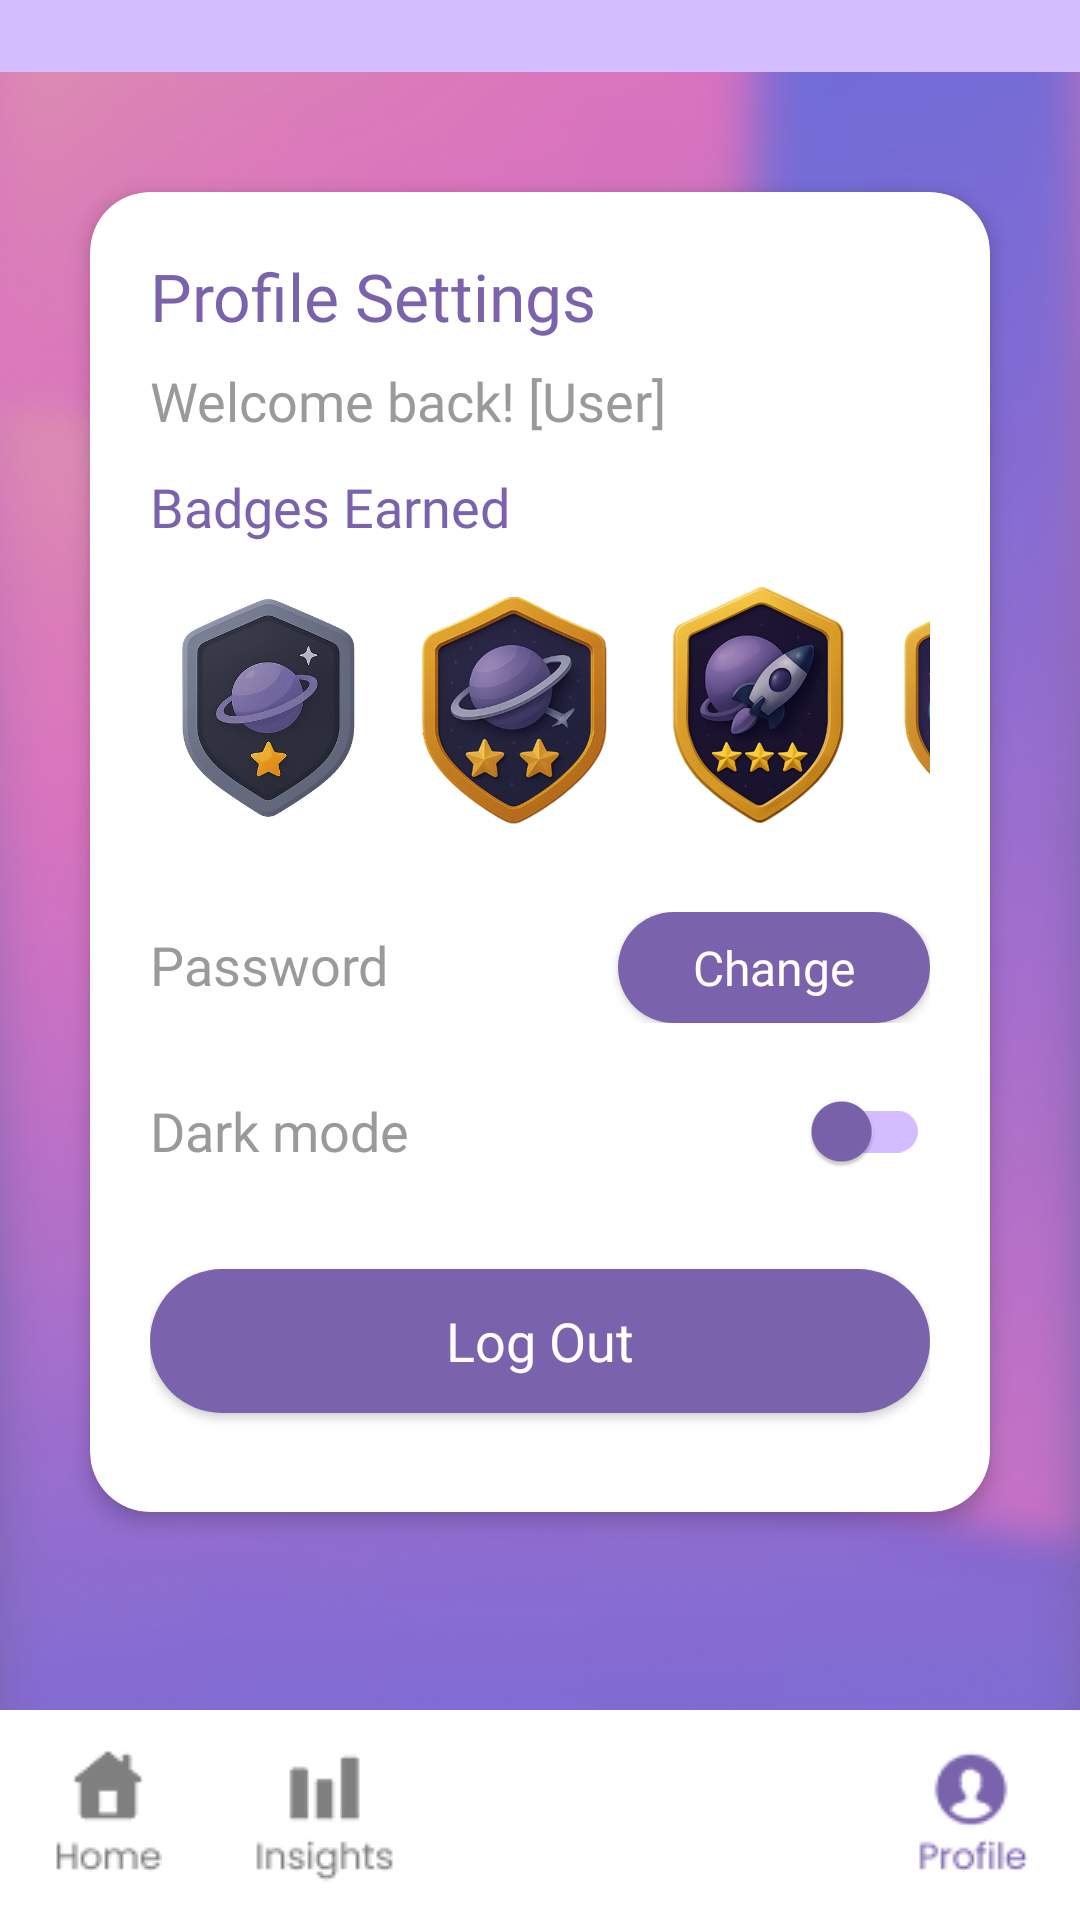

Point at icon controls on the screen. Image size 1080x1920, points as point (x, y).
Badge 1: point (268, 708)
Badge 2: point (514, 710)
Badge 3: point (758, 705)
